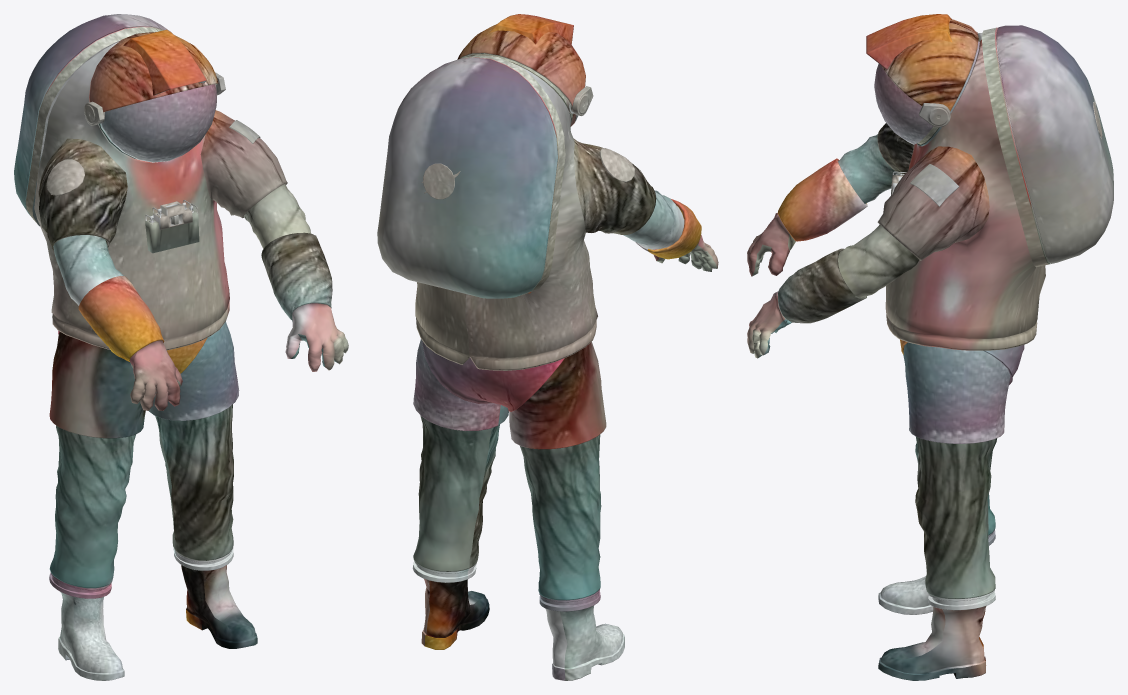
Rendered from astro.gltf.
3 renders of one model, left to right at view 1: azimuth 30°, elevation 25°; view 2: azimuth 150°, elevation 25°; view 3: azimuth 270°, elevation 25°, orthographic.
Visible parts, largest first — view 1: Z2; view 2: Z2; view 3: Z2.
Part boxes in pixels (<box>): Z2: <box>14,14,348,680</box>; Z2: <box>377,14,718,680</box>; Z2: <box>747,14,1113,680</box>.
Size of the model in its own units: 0.7944 by 1.94 by 1.04.
Materials: 1 (1 with a texture image).
